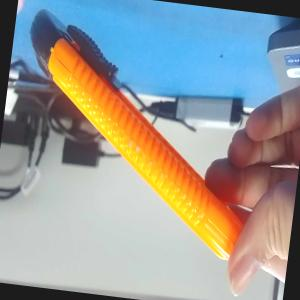estilete: (4, 5, 270, 266)
